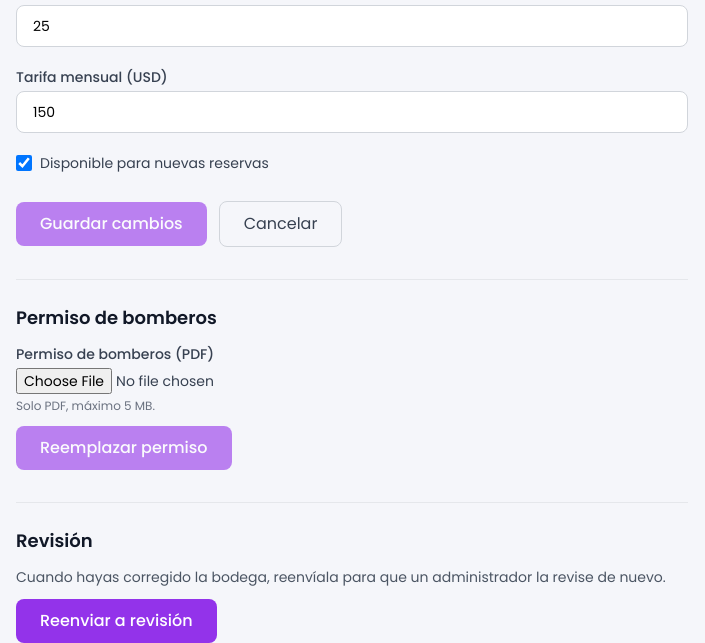
Test: EditarBodega resubmission › shows the server message on 409 and keeps the button
This screenshot has width=705, height=643.
(page scrolled)
Click the button "Reenviar a revisión" at (116, 621), box x1=16 y1=599 x2=217 y2=642
(page scrolled)
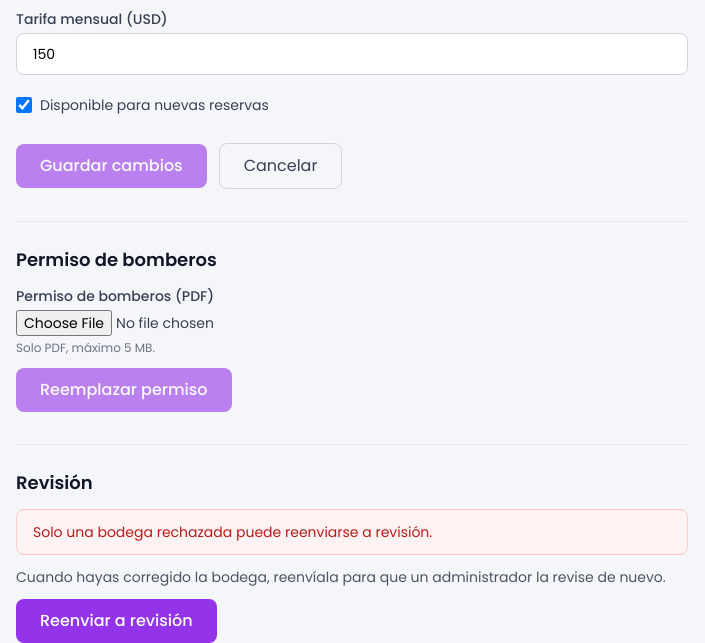
expect the text "Solo una bodega rechazada puede reenviarse a revisión." is shown: met, box x1=16 y1=509 x2=688 y2=555
